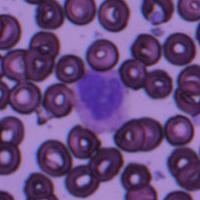N: (72, 69, 130, 132)
